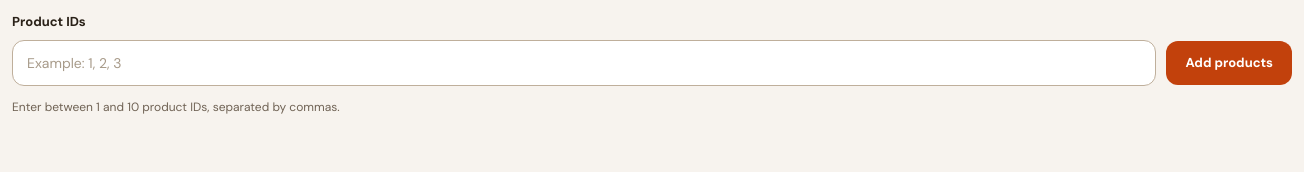
Scenario: ProductProposalForm › should submit valid product IDs
Type "1, 2, 3" into the field labelled "Product IDs".
click(584, 62); type("1, 2, 3")  # box [12, 40, 1156, 86]
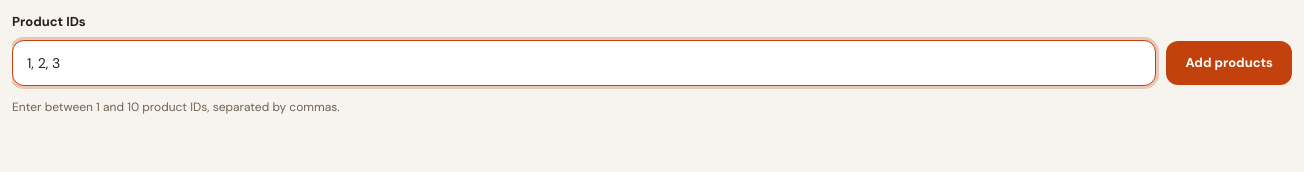
Click the button "Add products".
click(1229, 62)  # box [1166, 40, 1292, 84]
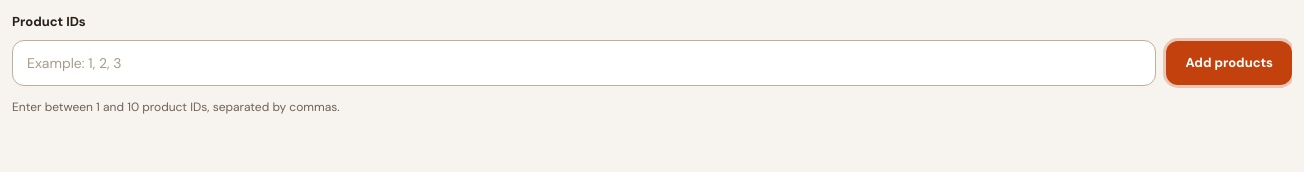
expect the field labelled "Product IDs" is empty: met, box [12, 40, 1156, 86]
